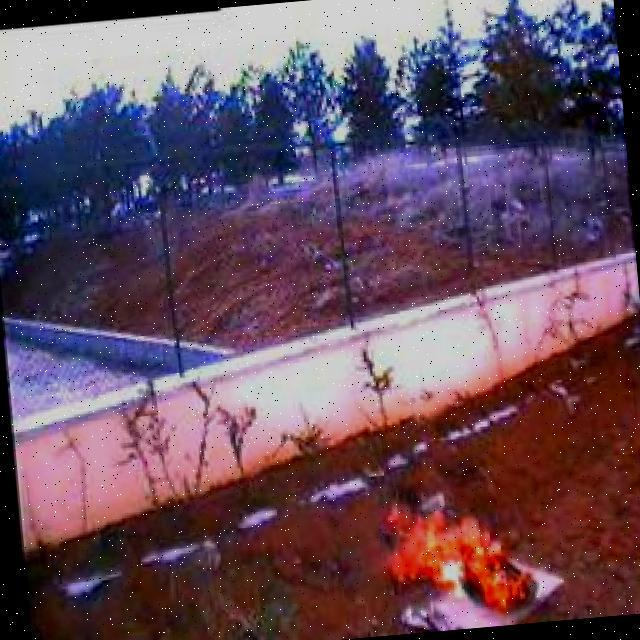Fire: (382, 493, 539, 621)
